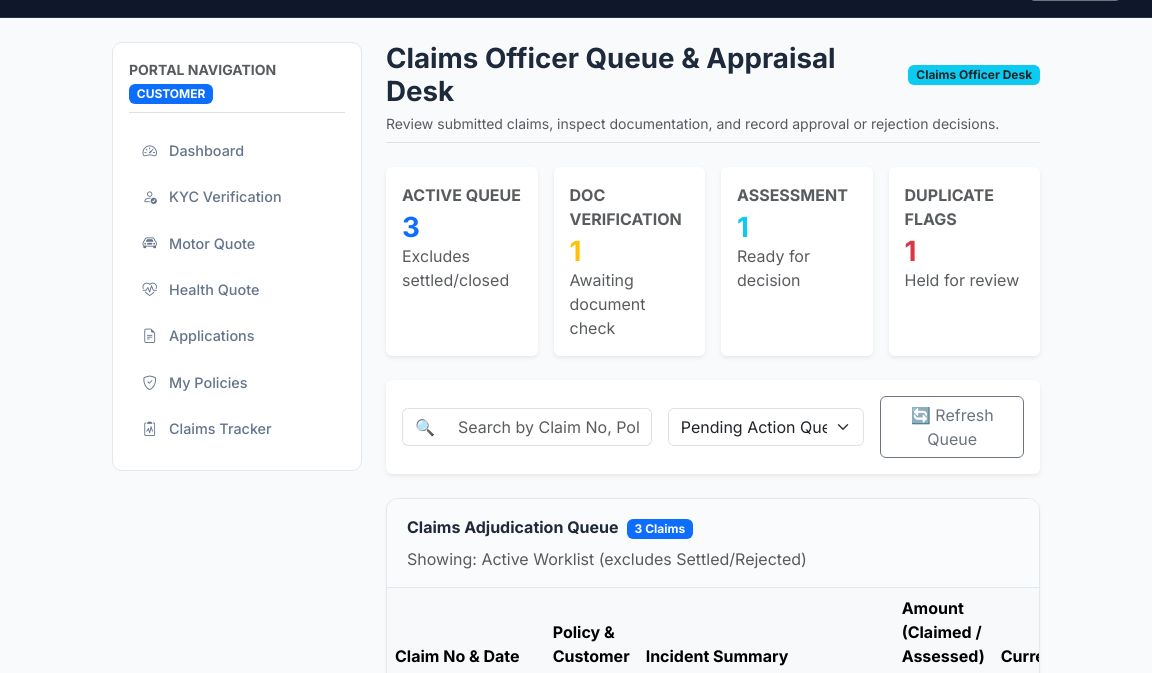
Test case: ClaimsOfficerDashboardView (INS-F-014, TC-Clm-03, P1-12) › shows all claims including Settled and Rejected when filter is changed to ALL
// Change stage filter to ALL
Select "All Claims (5)" in the dropdown with test id "claim-stage-filter": [766, 427] box [668,408,864,446]
(page scrolled)
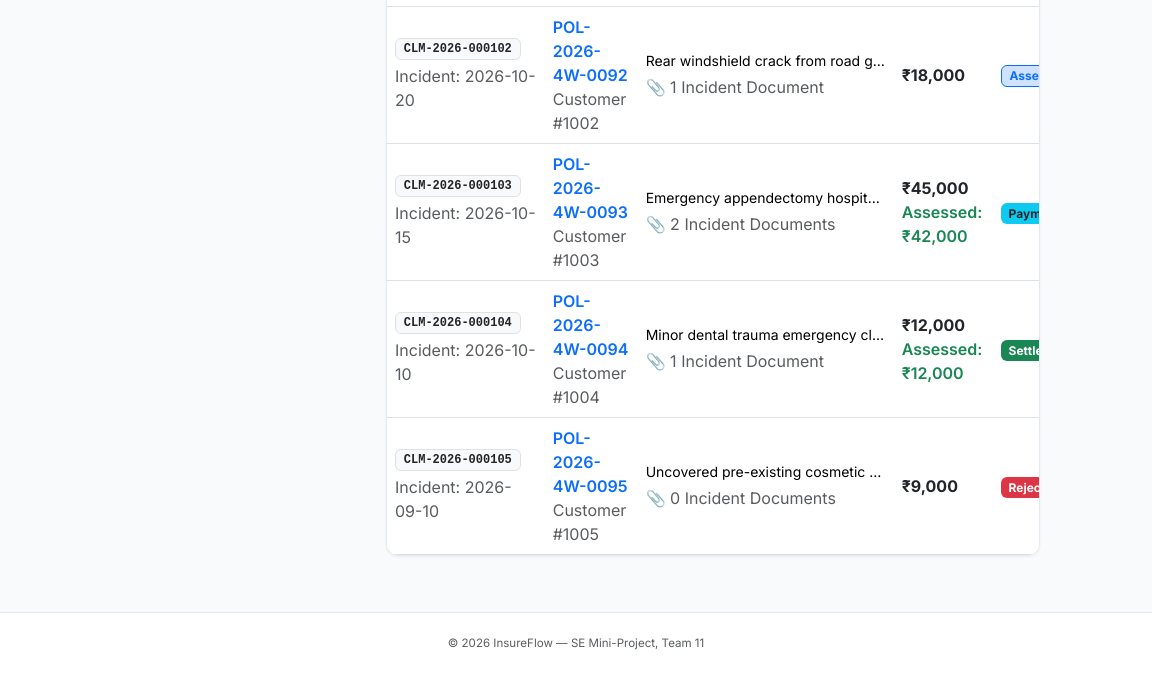
Expected: the text "CLM-2026-000104" is shown, [395,312,521,334]
Expected: the text "CLM-2026-000105" is shown, [395,449,521,471]
